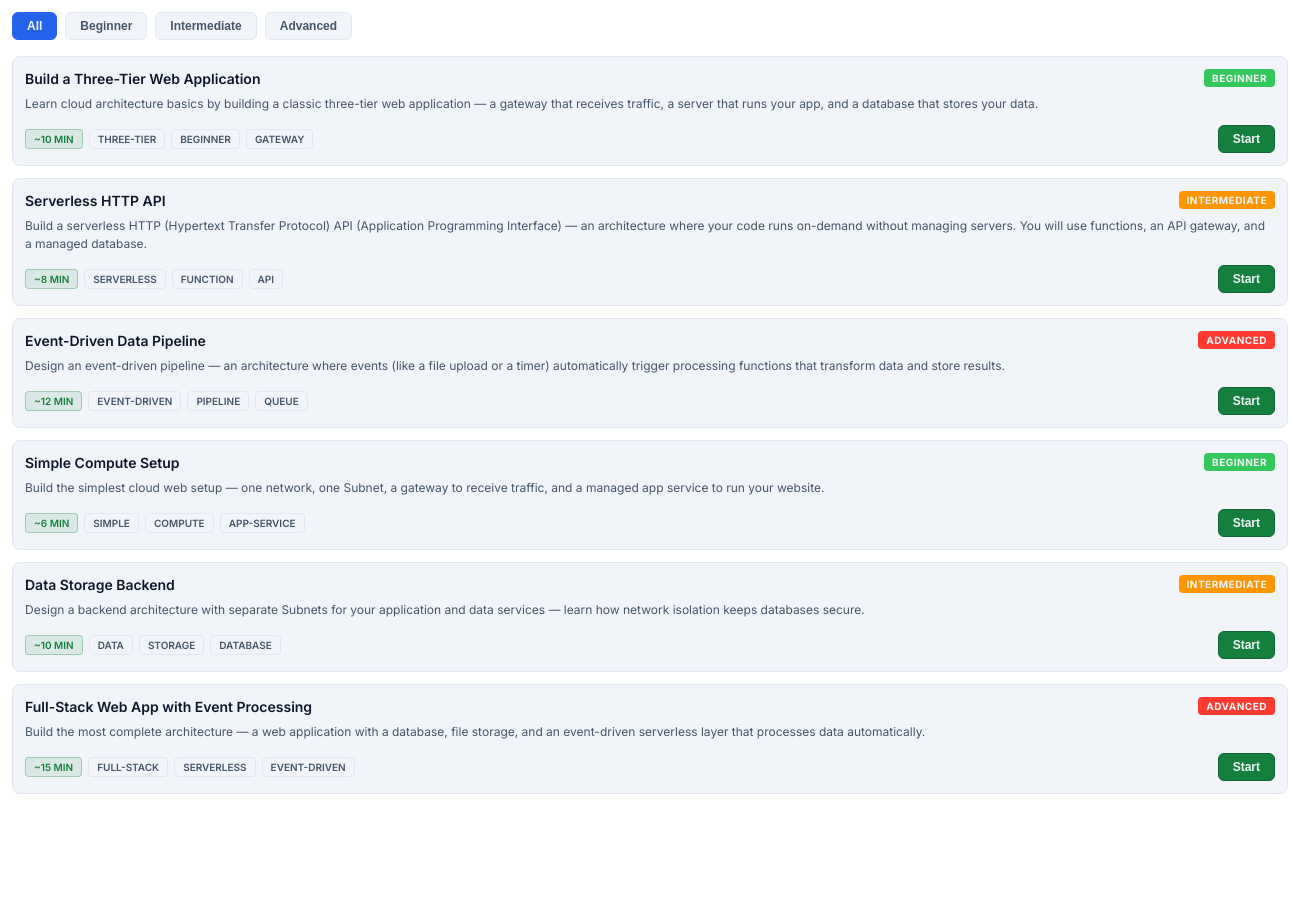
Test: ScenarioGallery › Beginner filter shows only beginner scenarios
Click the button "Beginner": [106, 26] box [65, 12, 147, 40]
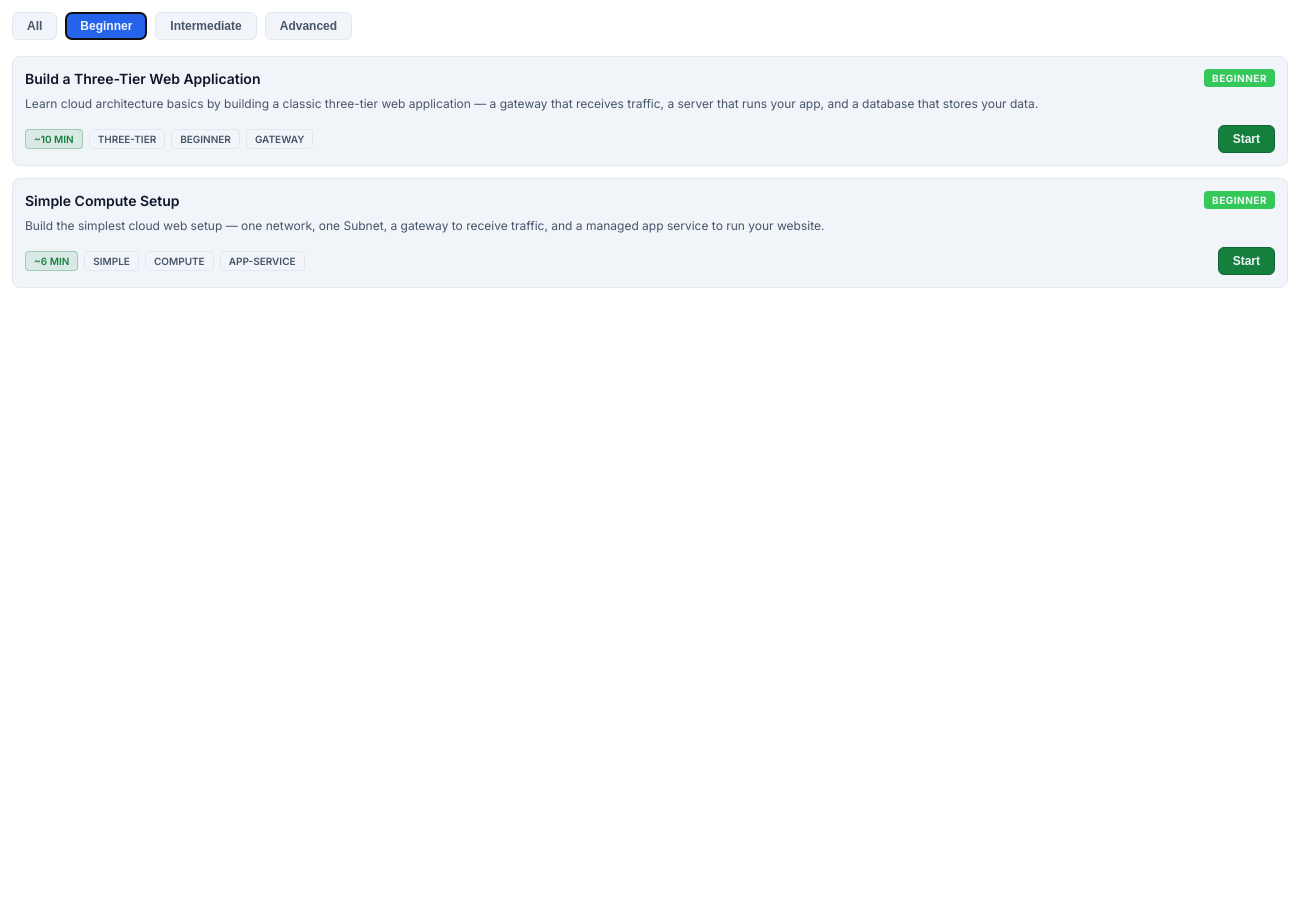
Check: the text "Build a Three-Tier Web Application" is shown, box [25, 70, 260, 86]
Check: the text "Serverless HTTP API" is gone
Check: the text "Event-Driven Data Pipeline" is gone
